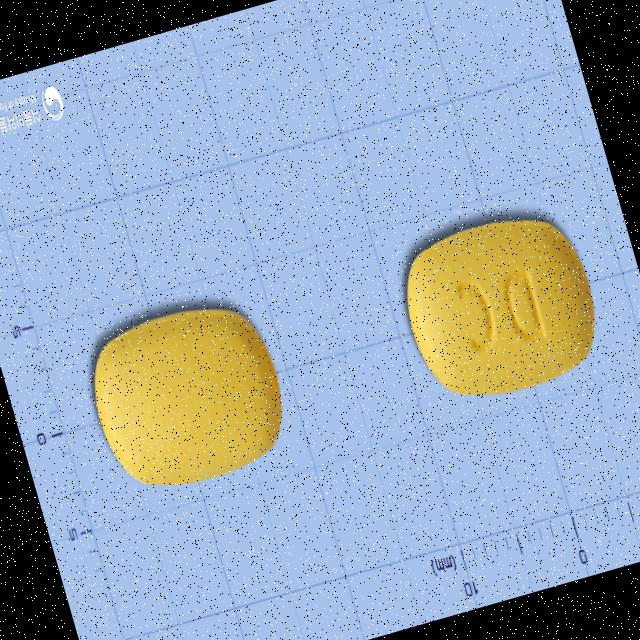Clabicks: (70, 282, 304, 514), (382, 192, 614, 418)
